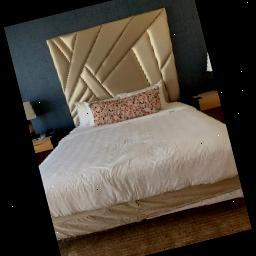clean_bed: (39, 9, 243, 243)
lamp: (22, 99, 43, 140)
organised_pillow: (72, 80, 172, 133)
